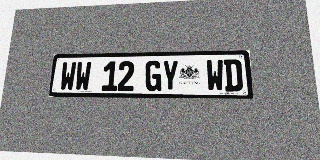1: (101, 61, 118, 91)
2: (117, 61, 134, 91)
D: (224, 59, 243, 91)
G: (145, 60, 162, 91)
W: (206, 59, 224, 91), (74, 62, 92, 91), (59, 62, 76, 91)
Y: (162, 60, 178, 91)
